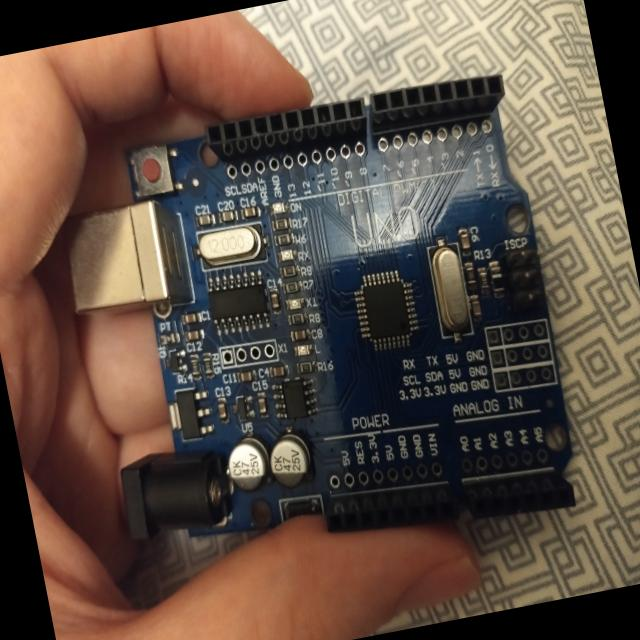arduino: (32, 58, 598, 602)
